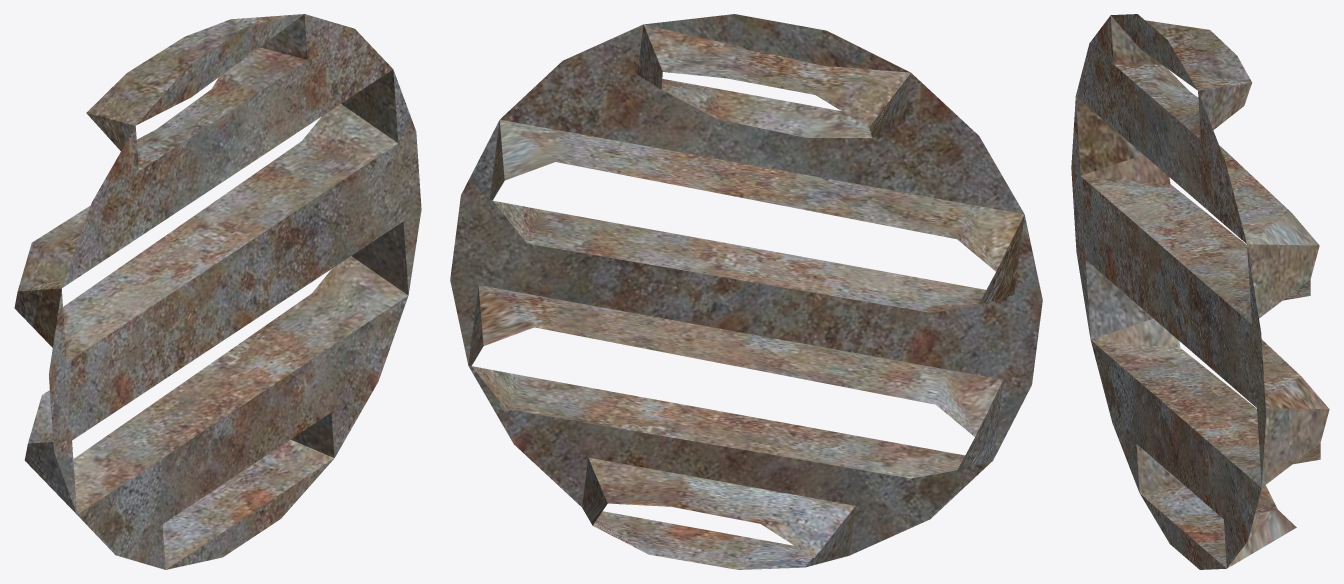
File: gaspipe_Vent_Cap.fbx
3 views of the same model, side by side, from view 1: azimuth 30°, elevation 25°; view 2: azimuth 150°, elevation 25°; view 3: azimuth 270°, elevation 25° (orthographic). The views are drawn at different scales.
Parts seen in each view (by area): view 1: pCylinder1; view 2: pCylinder1; view 3: pCylinder1.
Part boxes in pixels (x1,y1,x2,y2): pCylinder1: (14,14,421,569); pCylinder1: (450,14,1042,569); pCylinder1: (1071,14,1329,569).
Size of the model in its own units: 2.21 by 2.35 by 1.07.
1 material, 1 textured.
